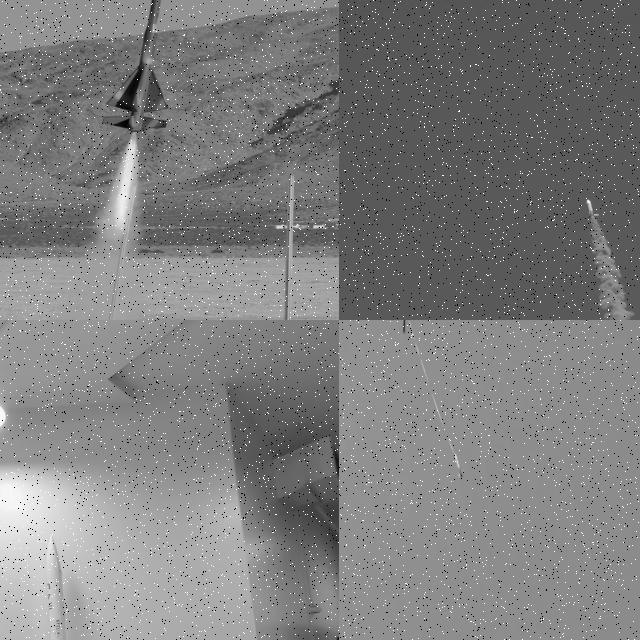Rocket: (99, 0, 170, 134), (46, 535, 66, 640), (586, 199, 600, 219), (454, 454, 462, 477)
